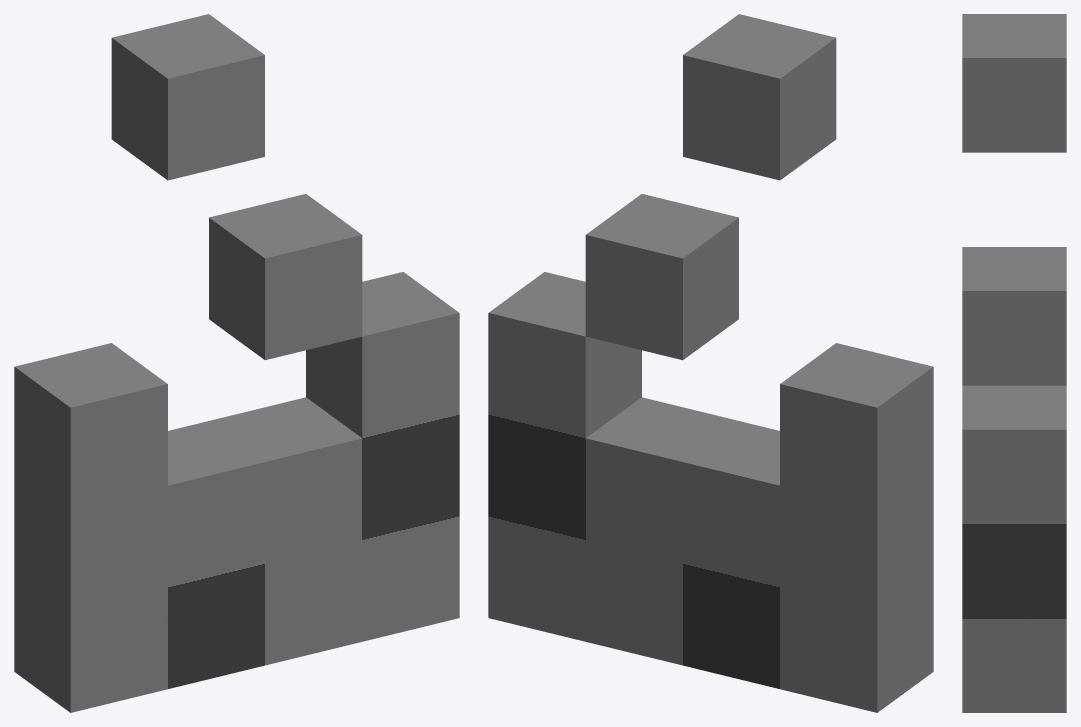
The model's file is obj_fire4.fbx.
3 renders of one model, left to right at view 1: azimuth 30°, elevation 25°; view 2: azimuth 150°, elevation 25°; view 3: azimuth 270°, elevation 25°, orthographic. The views are drawn at different scales.
Visible parts, largest first — view 1: obj_fire4; view 2: obj_fire4; view 3: obj_fire4.
Boxes of the visible parts, x1,y1,x2,y2 form: obj_fire4: [14, 14, 459, 712]; obj_fire4: [488, 14, 933, 712]; obj_fire4: [962, 14, 1066, 712].
Size of the model in its own units: 0.4 by 0.1 by 0.6.
Materials: 1 (1 with a texture image).
